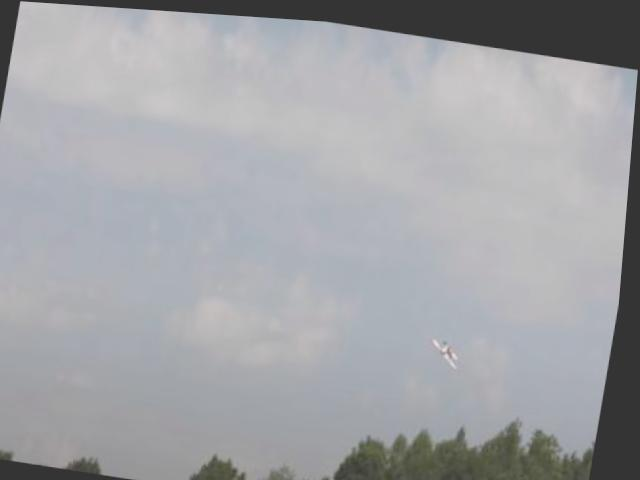uav: (428, 323, 473, 370)
